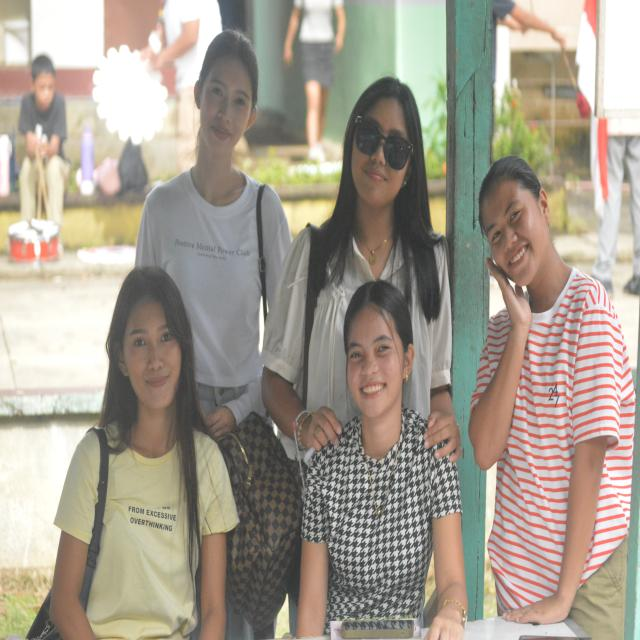person: (469, 157, 635, 639), (262, 77, 460, 461), (50, 268, 238, 639), (297, 280, 467, 639), (136, 31, 265, 437), (141, 0, 222, 172), (284, 0, 346, 162), (19, 55, 70, 227)
